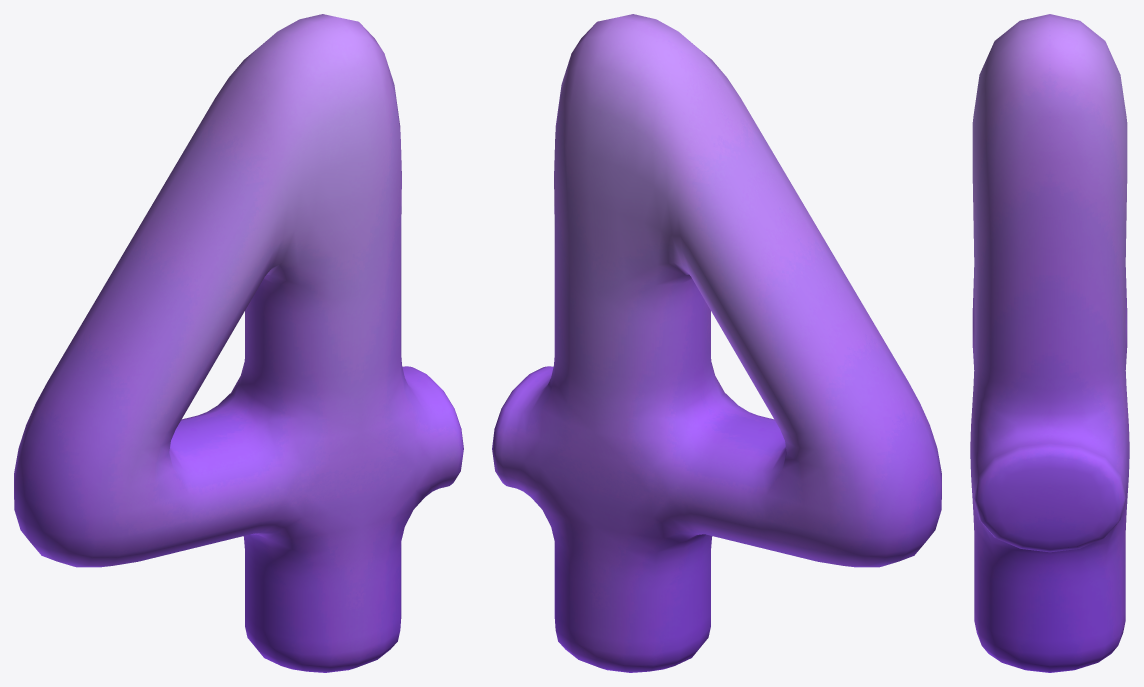
The picture shows the model from 3 angles, left to right: view 1: azimuth 30°, elevation 25°; view 2: azimuth 150°, elevation 25°; view 3: azimuth 270°, elevation 25°; orthographic projection.
Parts seen in each view (by area): view 1: node_id295; view 2: node_id295; view 3: node_id295.
Part boxes in pixels (x1=…): node_id295: x1=14, y1=14, x2=463, y2=672; node_id295: x1=492, y1=14, x2=941, y2=672; node_id295: x1=970, y1=14, x2=1129, y2=672.
Size of the model in its own units: 0.3465 by 0.512 by 0.1166.
Materials: 1 (1 with a texture image).
